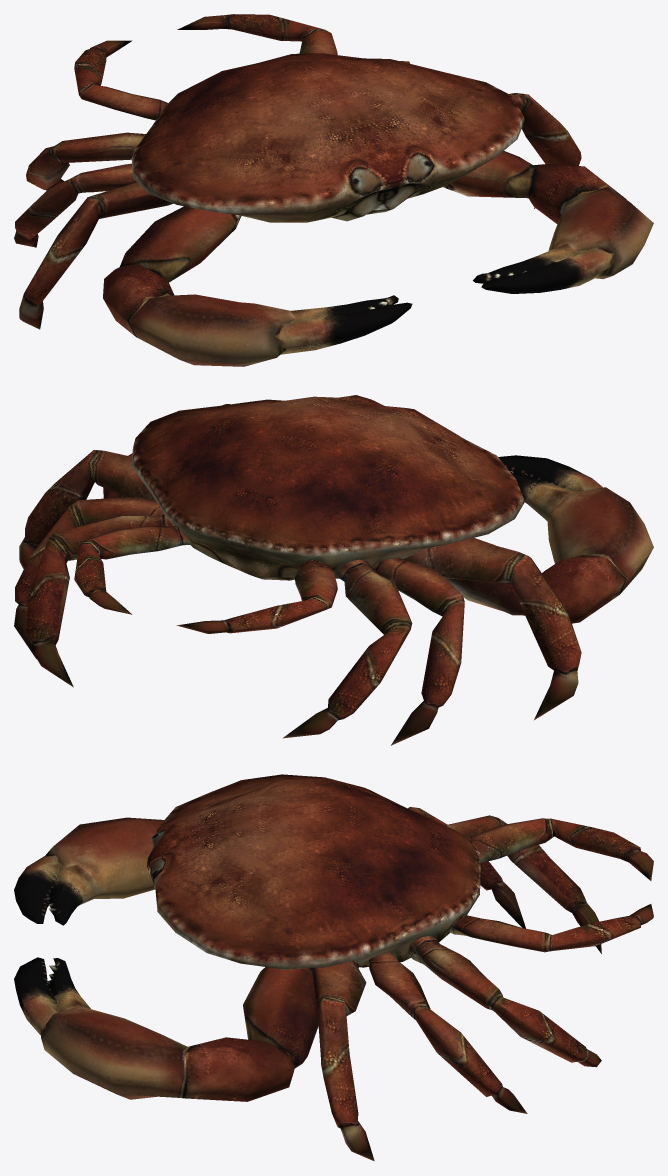
The model's file is crab.glb.
3 views of the same model, one above another, from view 1: azimuth 30°, elevation 25°; view 2: azimuth 150°, elevation 25°; view 3: azimuth 270°, elevation 25° (orthographic). The views are drawn at different scales.
Visible parts, largest first — view 1: crab; view 2: crab; view 3: crab.
Boxes of the visible parts, bbox=[...] form: crab: bbox=[14, 14, 653, 366]; crab: bbox=[14, 395, 653, 745]; crab: bbox=[14, 774, 653, 1161].
Size of the model in its own units: 0.7968 by 0.297 by 0.7567.
Materials: 1 (1 with a texture image).
